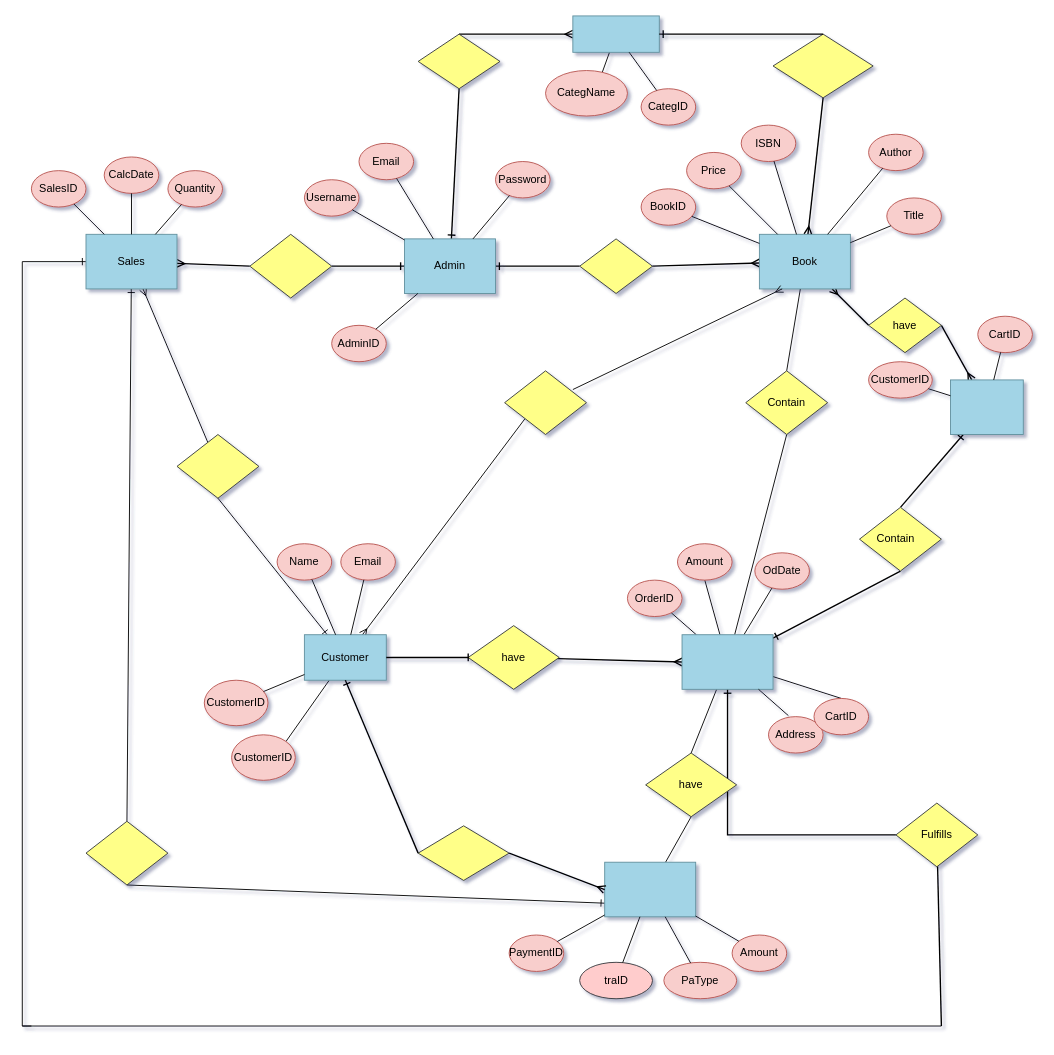
Some shapes in this 1054 by 1055 pixel diagram are drawn without their labels. Here are the shapes that lost their labels. From the top down, the centre of each, then its label:
At point 615,33: "Category".
At point 458,61: "Organizes".
At point 822,65: "Belongs to".
At point 290,265: "Oversees".
At point 615,265: "Manages".
At point 545,402: "Purchase".
At point 986,407: "Cart".
At point 217,466: "MadeBy".
At point 727,661: "Order".
At point 126,852: "PaidWIth".
At point 463,852: "Makes".
At point 650,889: "Payment".
